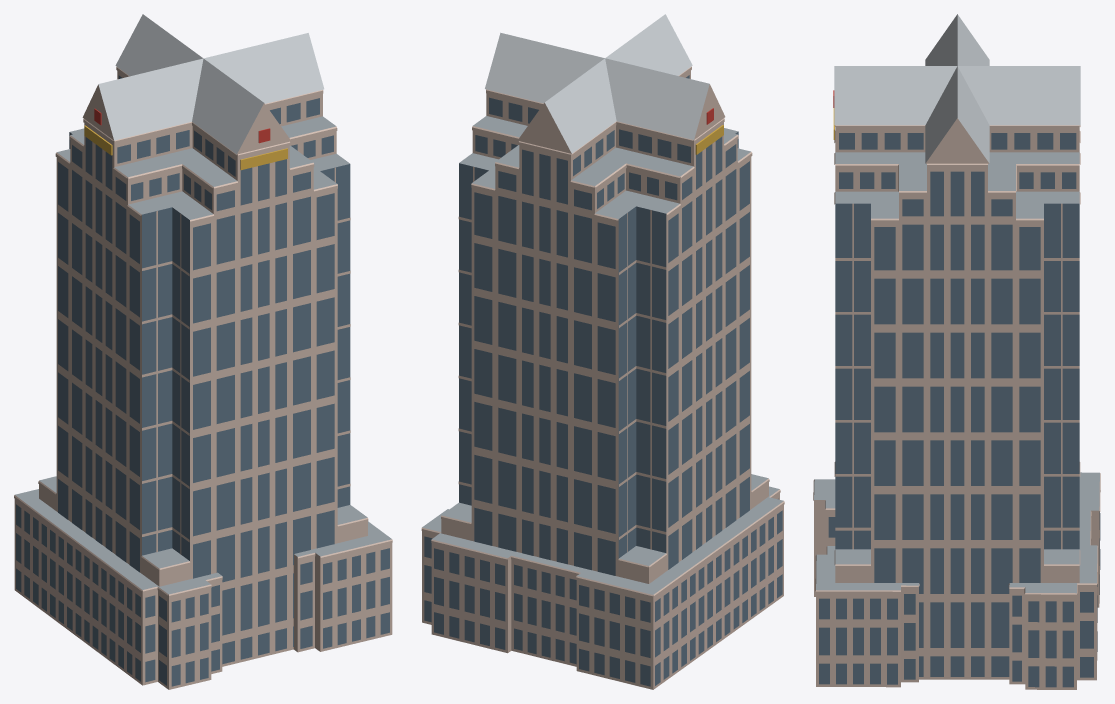
Rendered from ral-wells-fargo-capitol-center.glb.
3 views of the same model, side by side, from view 1: azimuth 30°, elevation 25°; view 2: azimuth 150°, elevation 25°; view 3: azimuth 270°, elevation 25° (orthographic).
Parts seen in each view (by area): view 1: Wells Fargo Capitol Center; view 2: Wells Fargo Capitol Center; view 3: Wells Fargo Capitol Center.
Boxes of the visible parts, x1=… form: Wells Fargo Capitol Center: x1=14, y1=14, x2=392, y2=689; Wells Fargo Capitol Center: x1=421, y1=14, x2=784, y2=689; Wells Fargo Capitol Center: x1=813, y1=14, x2=1100, y2=689.
Size of the model in its own units: 56.8 by 122 by 56.5.
